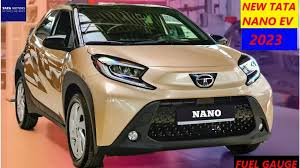Nano: (11, 8, 275, 168)
